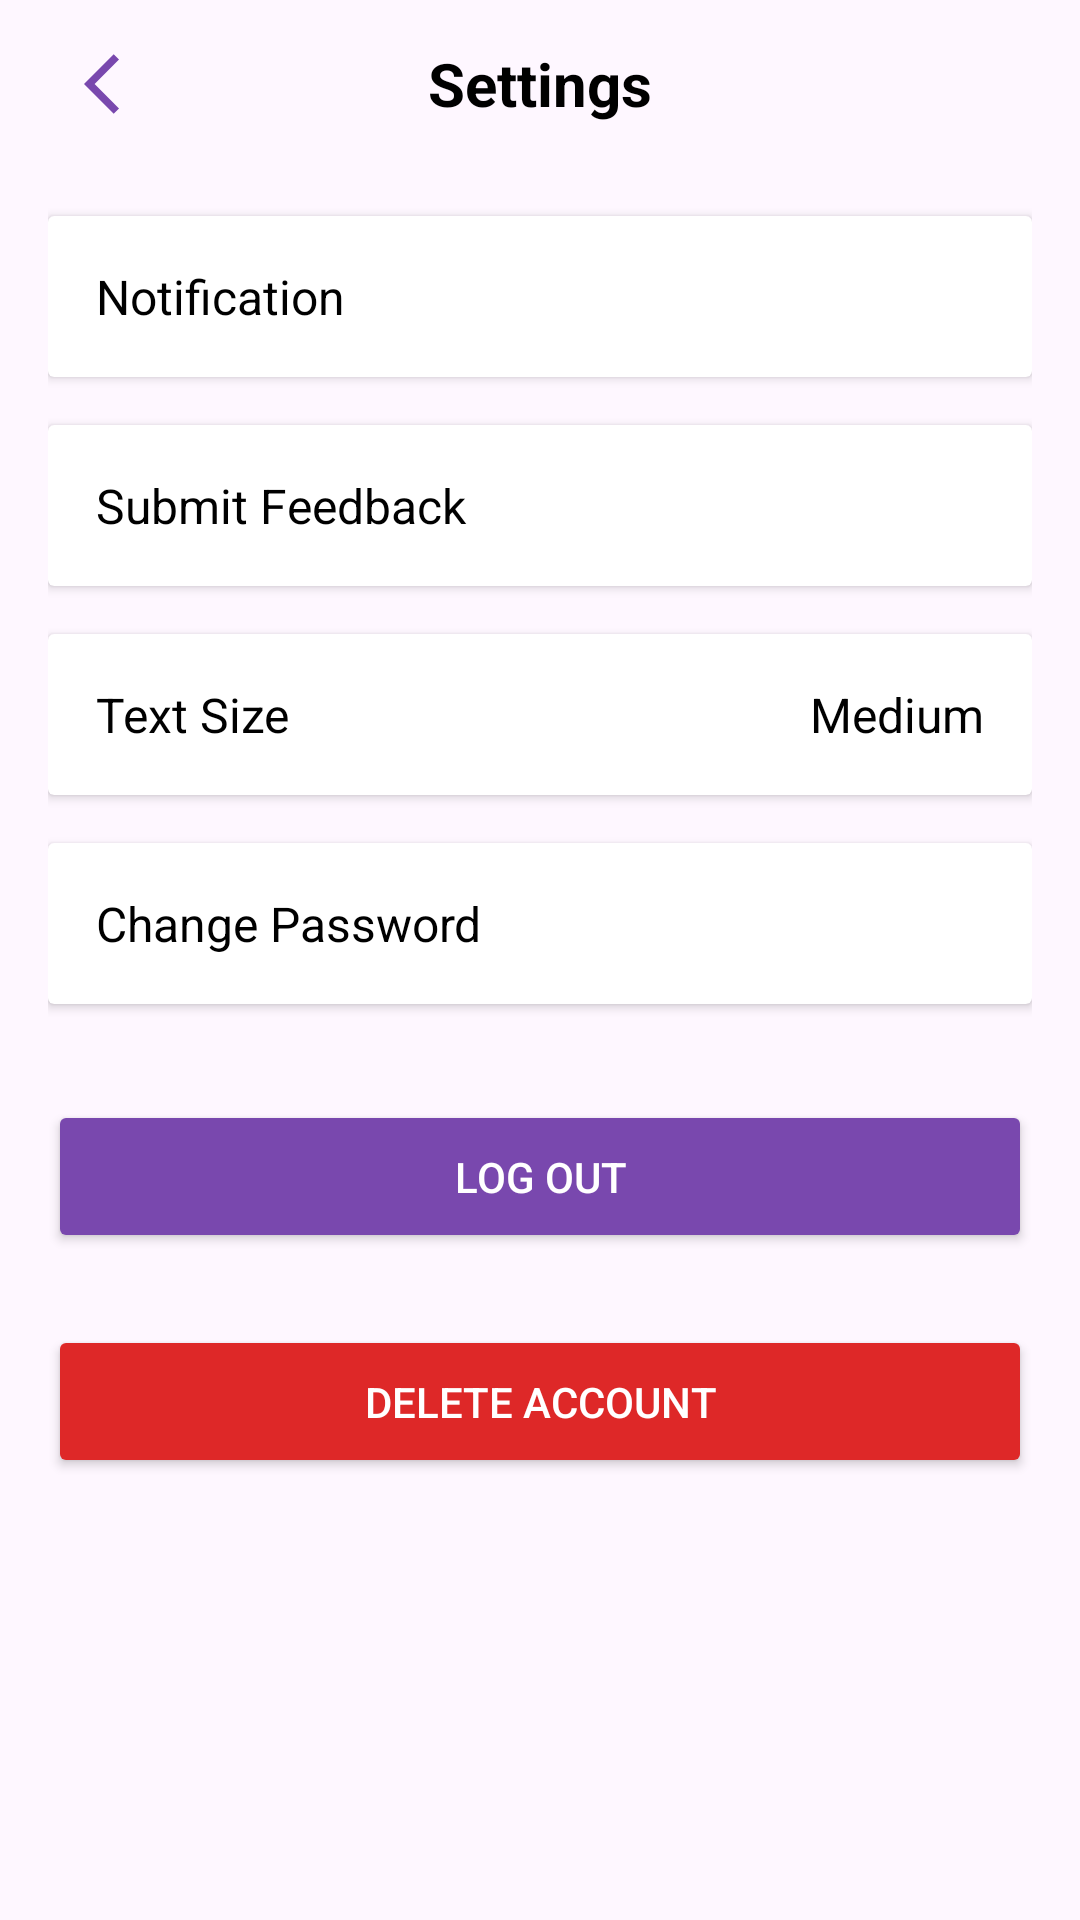

Point at icon controls on the screen. Image size 1080x1920, points as (x,y).
Back: (101,84)
